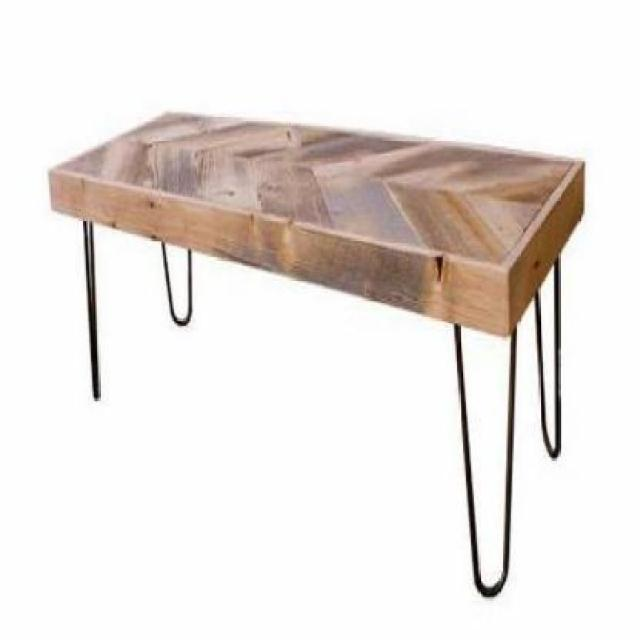tables: (46, 108, 586, 597)
